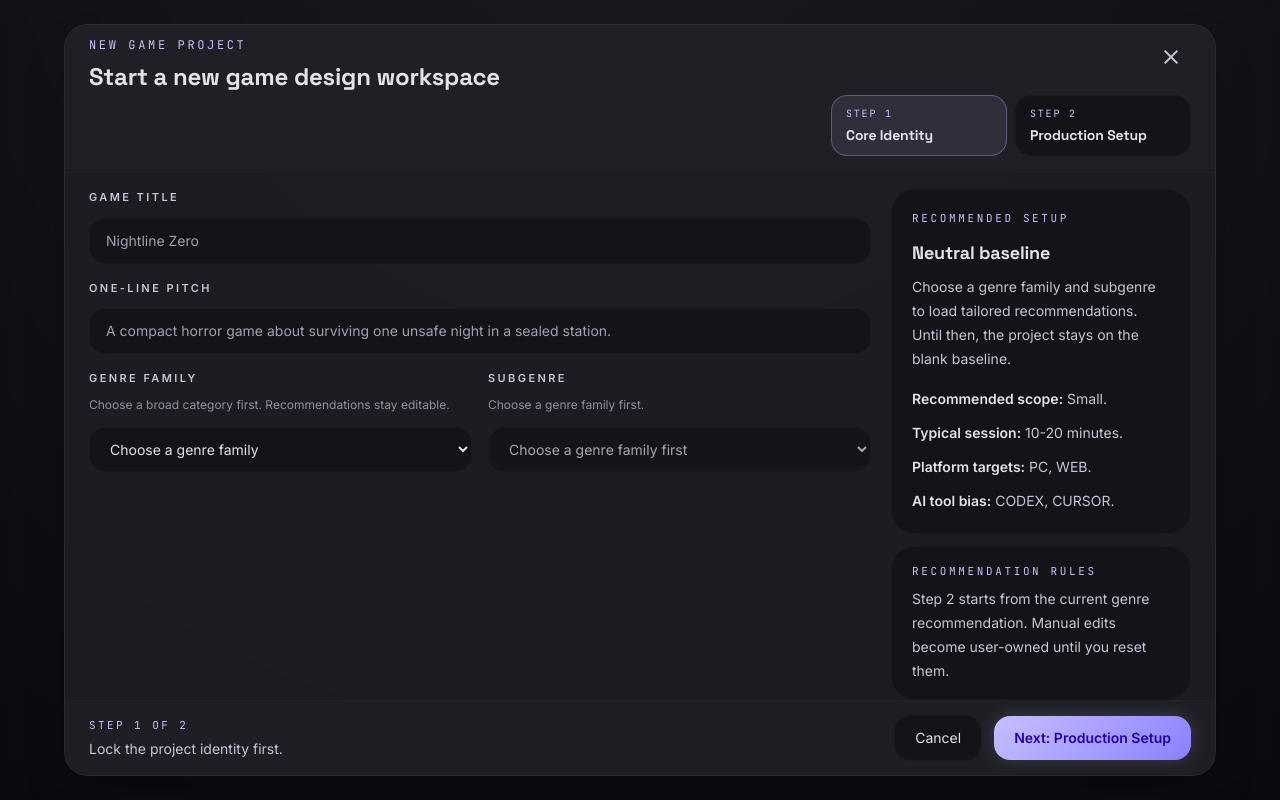
Test: NewProjectModal › requires a title before continuing
Step 1. Click the button "Next: Production Setup" → (1093,738), box [994,716,1191,760]
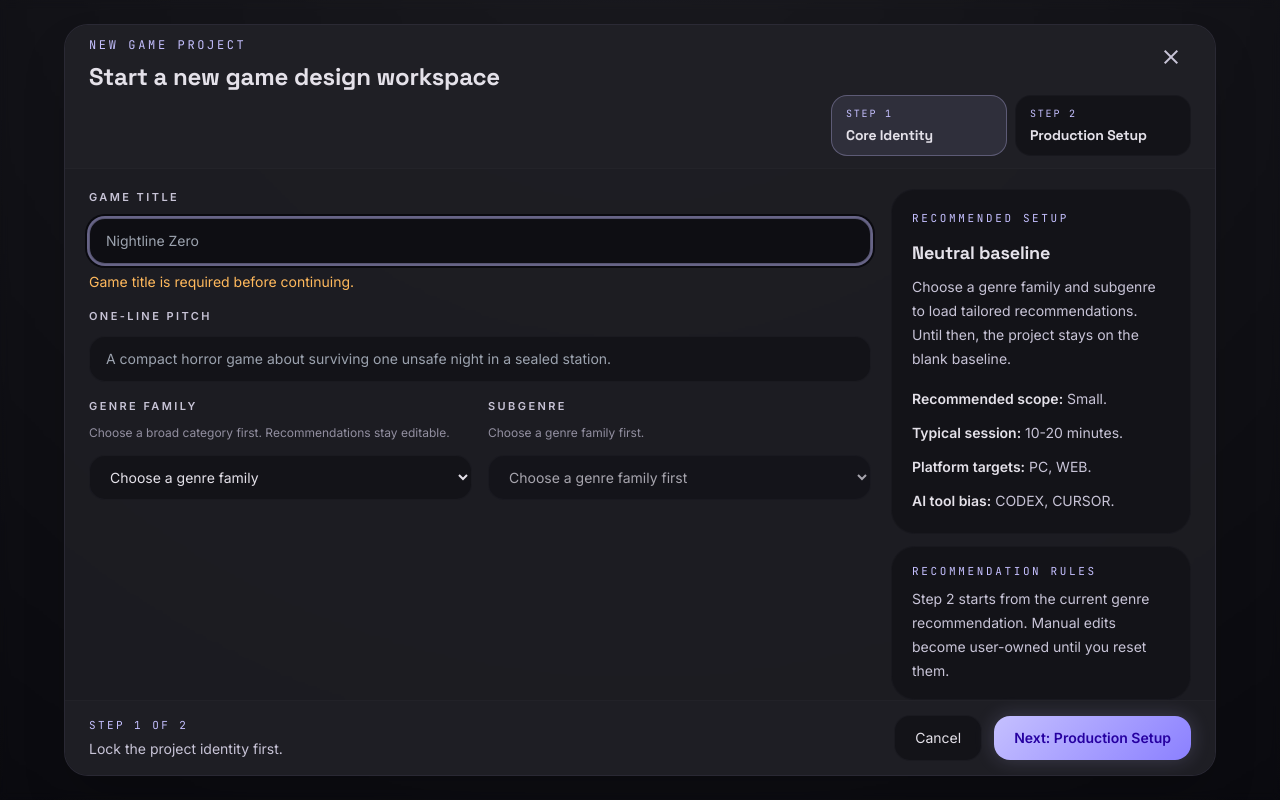
Expected: the text "Step 1 of 2" is shown, [89,718,188,732]
Result: the text "Game title is required before continuing." is shown at [89,272,354,290]
